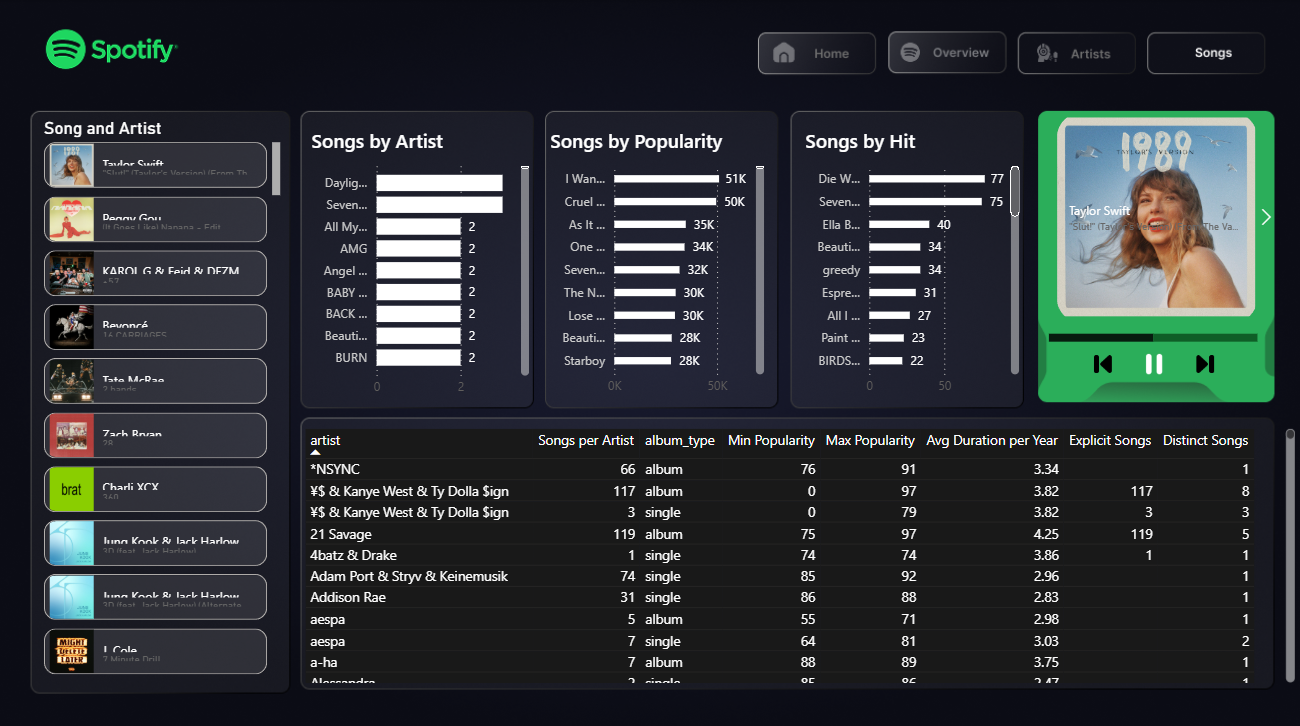

The page's visual inventory and layout, read from the dashboard file:
{"tool":"powerbi","page":{"name":"Songs","canvas":[1280,720],"ordinal":3},"visuals":[{"type":"actionButton","box":[744,34.1,120,40],"z":0},{"type":"actionButton","box":[874,34.5,120,40],"z":1000},{"type":"actionButton","box":[1002.8,34.5,120,40],"z":2000},{"type":"actionButton","box":[1131.5,34.5,111.2,40],"z":3000},{"type":"advancedSlicerVisual","title":"Song and Artist","fields":{"Values":["Top-50-World.song"]},"box":[1011.9,104.3,247.9,219.6],"z":4000},{"type":"hundredPercentStackedBarChart","fields":{"Y":["_Measures.Avg Popularity","Avg(Top-50-World.popularity)"]},"box":[1025.4,296.9,214.7,65],"z":5000},{"type":"image","box":[1169.7,344.1,30,30],"z":6000},{"type":"image","box":[1119.4,344.1,30,30],"z":7000},{"type":"image","box":[1069.1,344.1,30,30],"z":8000},{"type":"shape","box":[1013.8,103.8,246.2,298.8],"z":9000},{"type":"advancedSlicerVisual","title":"Song and Artist","fields":{"Values":["Top-50-World.song"]},"box":[39.3,116.6,242.9,558.3],"z":13000},{"type":"tableEx","fields":{"Values":["Top-50-World.artist","_Measures.Songs per Artist","Top-50-World.album_type","_Measures.Min Popularity","_Measures.Max Popularity","_Measures.Avg Duration per Year","_Measures.Explicit Songs","_Measures.Distinct Songs"]},"box":[294,417.2,982.5,258.8],"z":14000},{"type":"clusteredBarChart","title":"Songs by Artist","fields":{"Category":["Top-50-World.song"],"Y":["_Measures.Distinct Artists"]},"box":[302.3,126.5,223.8,272.5],"z":15000},{"type":"clusteredBarChart","title":"Songs by Popularity","fields":{"Category":["Top-50-World.song"],"Y":["Sum(Top-50-World.popularity)"]},"box":[536,126.5,220,271.2],"z":16000},{"type":"clusteredBarChart","title":"Songs by Hit","fields":{"Category":["Top-50-World.song"],"Y":["_Measures.Position1 Hits per Artist"]},"box":[786,126.5,220,271.2],"z":17000}]}

Visuals, with their boxes in screenshot pixels (x1, y1, x2, y2), scaled from the page's 1280x720 canvas onto the 1300x726 screenshot:
actionButton: 756 34 878 75
actionButton: 888 35 1010 75
actionButton: 1018 35 1140 75
actionButton: 1149 35 1262 75
"Song and Artist" advancedSlicerVisual: 1028 105 1279 327
hundredPercentStackedBarChart - _Measures.Avg Popularity x Avg(Top-50-World.popularity): 1041 299 1259 365
image: 1188 347 1218 377
image: 1137 347 1167 377
image: 1086 347 1116 377
shape: 1030 105 1280 406
"Song and Artist" advancedSlicerVisual: 40 118 287 681
tableEx - Top-50-World.artist x _Measures.Songs per Artist: 299 421 1296 682
"Songs by Artist" clusteredBarChart: 307 128 534 402
"Songs by Popularity" clusteredBarChart: 544 128 768 401
"Songs by Hit" clusteredBarChart: 798 128 1022 401
